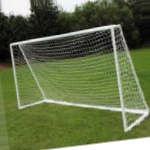goals: (8, 22, 149, 133)
